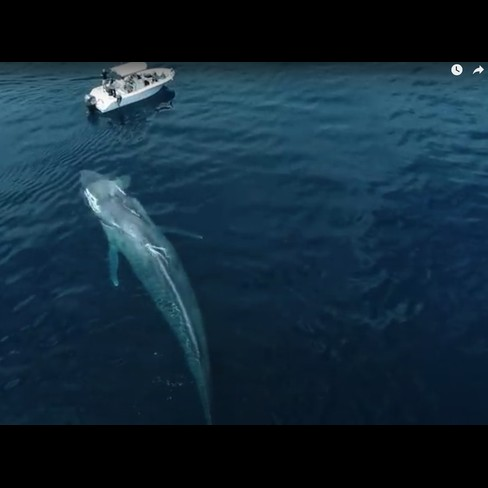bluewhale: (74, 165, 220, 425)
